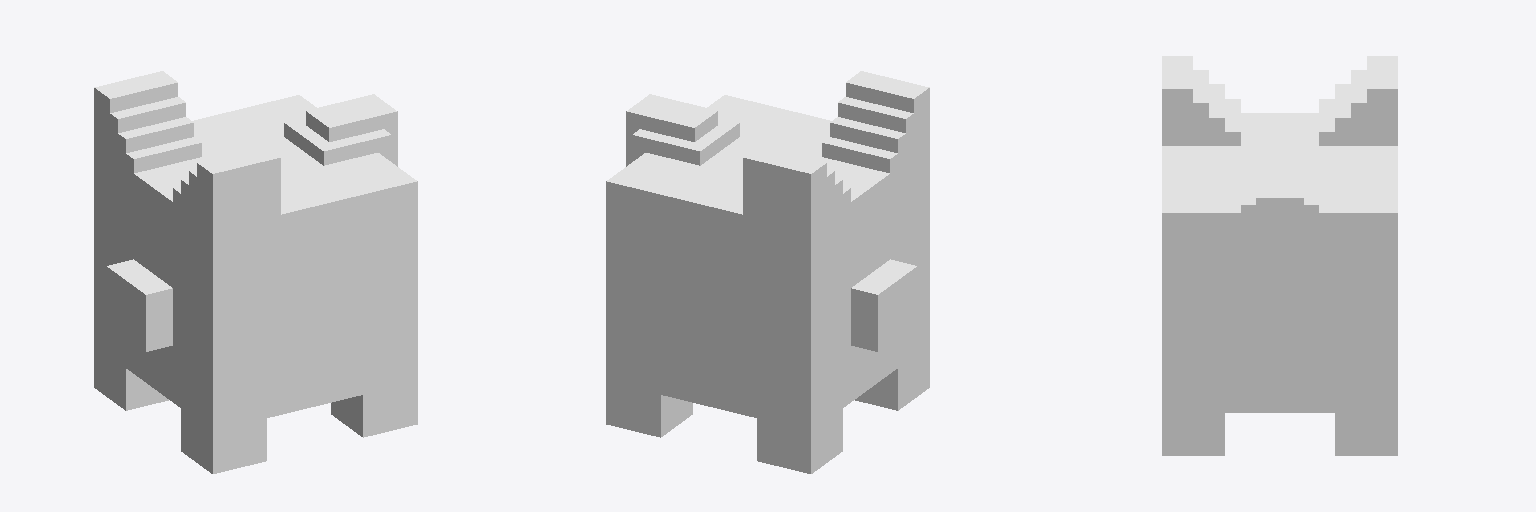
The model's file is wolf.obj.
3 views of the same model, side by side, from view 1: azimuth 30°, elevation 25°; view 2: azimuth 150°, elevation 25°; view 3: azimuth 270°, elevation 25° (orthographic).
Visible parts, largest first — view 1: wolf; view 2: wolf; view 3: wolf.
Part boxes in pixels (x1,y1,x2,y2): wolf: (94, 71, 417, 473); wolf: (606, 71, 929, 473); wolf: (1162, 56, 1397, 455).
Size of the model in its own units: 19 by 21 by 15.